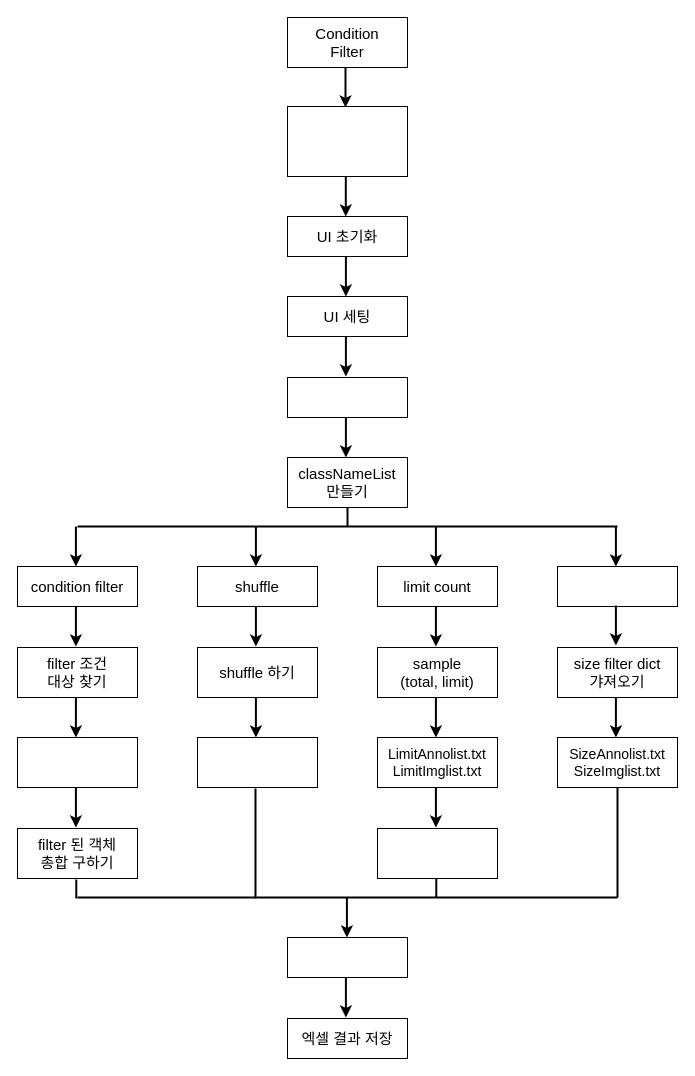
Some shapes in this 695 by 1076 pixel diagram are drawn without their labels. The shapes that lost their labels are listed below. From the top down, each one's centre as x and y in pixels, then its label:
[347,141]: Input (annotation.txt imglist.txt)
[347,397]: class 개수 세기
[617,586]: size filtering
[77,762]: CondAnnolist.txt CondImglist.txt
[257,762]: ShuffleAnnolist.txt ShuffleImglist.txt
[437,853]: limit 된 객체 총합 구하기
[347,957]: 결과 저장
